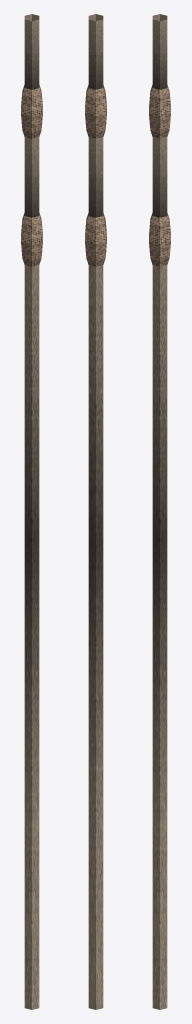
Rendered from Pillar.fbx.
The picture shows the model from 3 angles, left to right: view 1: azimuth 90°, elevation 25°; view 2: azimuth 150°, elevation 25°; view 3: azimuth 330°, elevation 25°; orthographic projection.
Parts seen in each view (by area): view 1: pillar; view 2: pillar; view 3: pillar.
Boxes of the visible parts, x1=… form: pillar: x1=21, y1=14, x2=42, y2=1009; pillar: x1=85, y1=14, x2=106, y2=1009; pillar: x1=149, y1=14, x2=170, y2=1009.
Size of the model in its own units: 30 by 1275 by 25.98.
